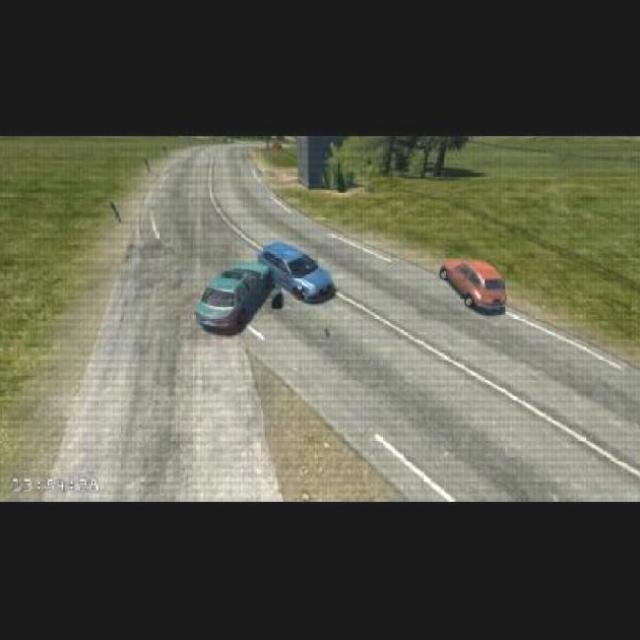accident: (210, 240, 321, 298)
